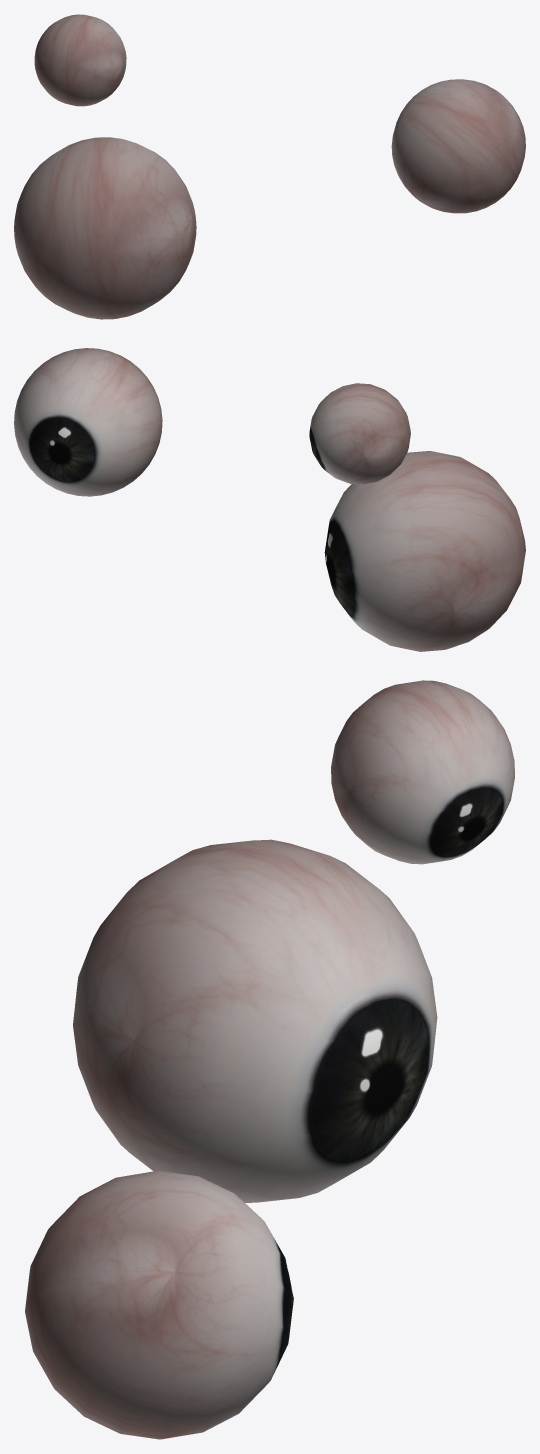
The model's file is EyeBall1.obj.
3 views of the same model, one above another, from view 1: azimuth 30°, elevation 25°; view 2: azimuth 150°, elevation 25°; view 3: azimuth 270°, elevation 25° (orthographic). The views are drawn at different scales.
Visible parts, largest first — view 1: pSphere4; view 2: pSphere4; view 3: pSphere4.
Boxes of the visible parts, left/top/right/bottom form: pSphere4: left=14, top=14, right=525, bottom=319; pSphere4: left=14, top=348, right=525, bottom=651; pSphere4: left=25, top=680, right=514, bottom=1439.
Bounding box in the file's own units: 6.96 × 3.67 × 3.17.
Materials: 1 (1 with a texture image).
